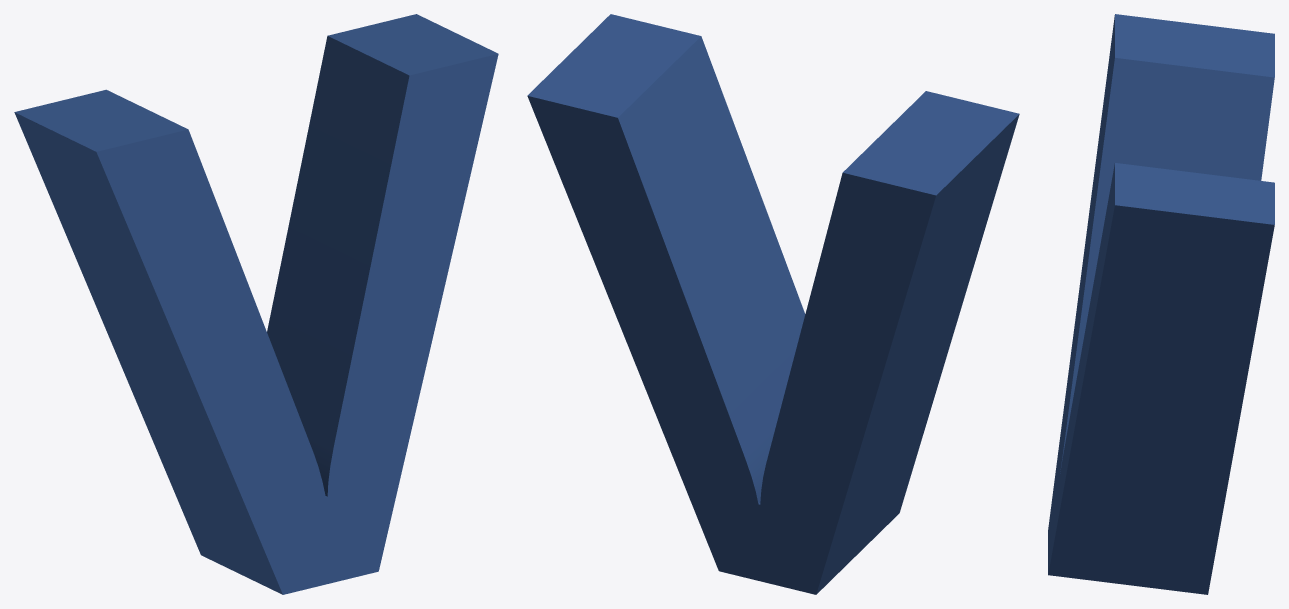
3 renders of one model, left to right at view 1: azimuth 30°, elevation 25°; view 2: azimuth 150°, elevation 25°; view 3: azimuth 270°, elevation 25°, orthographic. The views are drawn at different scales.
Parts seen in each view (by area): view 1: Node #0; view 2: Node #0; view 3: Node #0.
Part boxes in pixels (x1=…): Node #0: x1=14, y1=14, x2=498, y2=594; Node #0: x1=527, y1=14, x2=1019, y2=594; Node #0: x1=1048, y1=14, x2=1274, y2=594.
Bounding box in the file's own units: 0.2147 × 0.2424 × 0.1076.
1 material, 1 textured.
